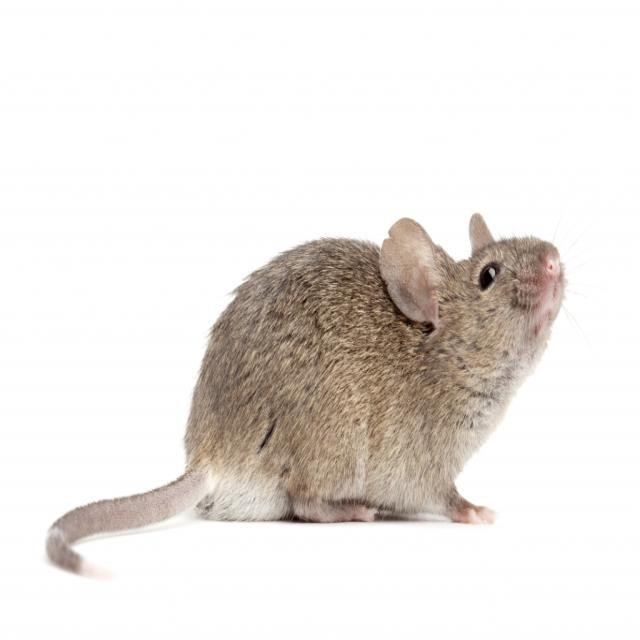rat: (20, 190, 575, 602)
